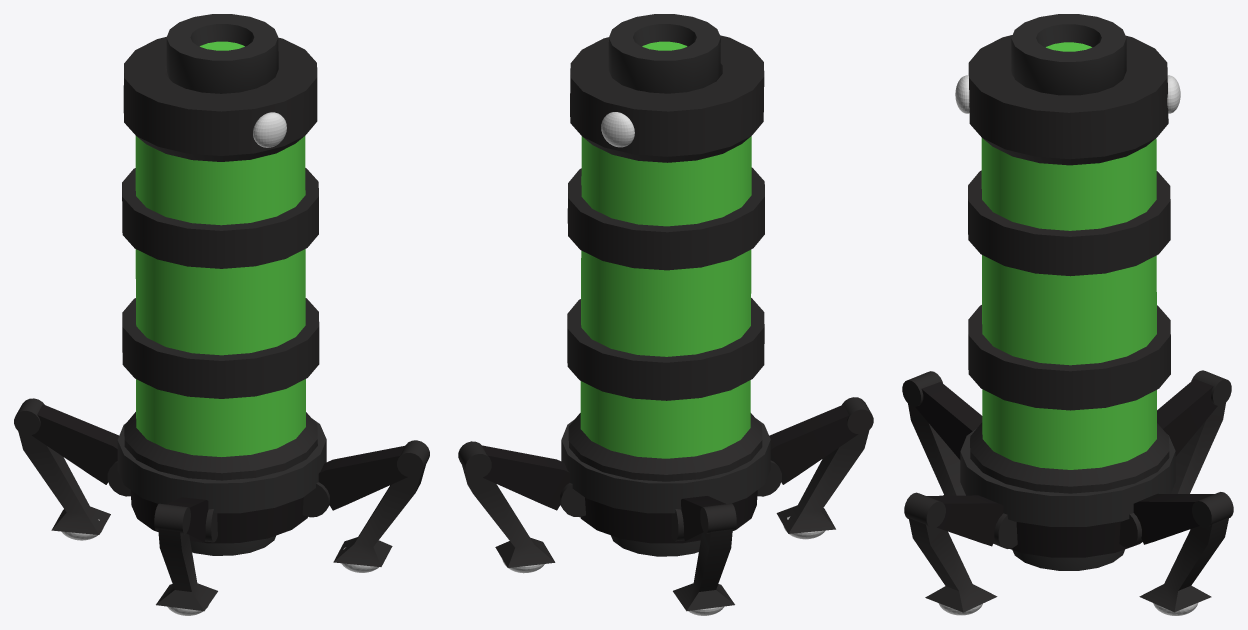
File: Desolator_Irradiator.fbx
The picture shows the model from 3 angles, left to right: view 1: azimuth 30°, elevation 25°; view 2: azimuth 150°, elevation 25°; view 3: azimuth 270°, elevation 25°; orthographic projection. The views are drawn at different scales.
Visible parts, largest first — view 1: Irradiator; view 2: Irradiator; view 3: Irradiator.
Boxes of the visible parts, x1,y1,x2,y2 form: Irradiator: (14, 14, 429, 615); Irradiator: (458, 14, 873, 615); Irradiator: (902, 14, 1233, 615).
Bounding box in the file's own units: 51.35 × 90.81 × 51.39.
